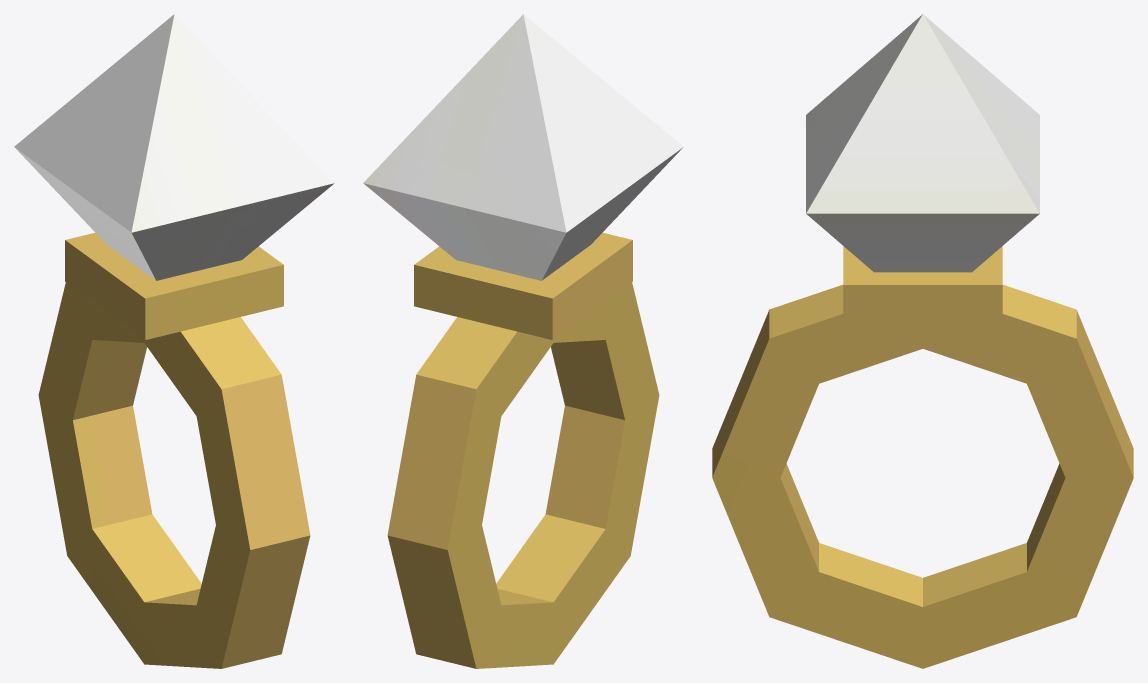
Rendered from 816yhHDAybh.glb.
3 views of the same model, side by side, from view 1: azimuth 30°, elevation 25°; view 2: azimuth 150°, elevation 25°; view 3: azimuth 270°, elevation 25° (orthographic).
Visible parts, largest first — view 1: Cube.021_Cube.038; view 2: Cube.021_Cube.038; view 3: Cube.021_Cube.038.
Boxes of the visible parts, bbox=[...] form: Cube.021_Cube.038: bbox=[14, 14, 334, 668]; Cube.021_Cube.038: bbox=[363, 14, 683, 668]; Cube.021_Cube.038: bbox=[712, 14, 1133, 668].
Bounding box in the file's own units: 0.331 × 1 × 0.5966.
Materials: 1 (1 with a texture image).
